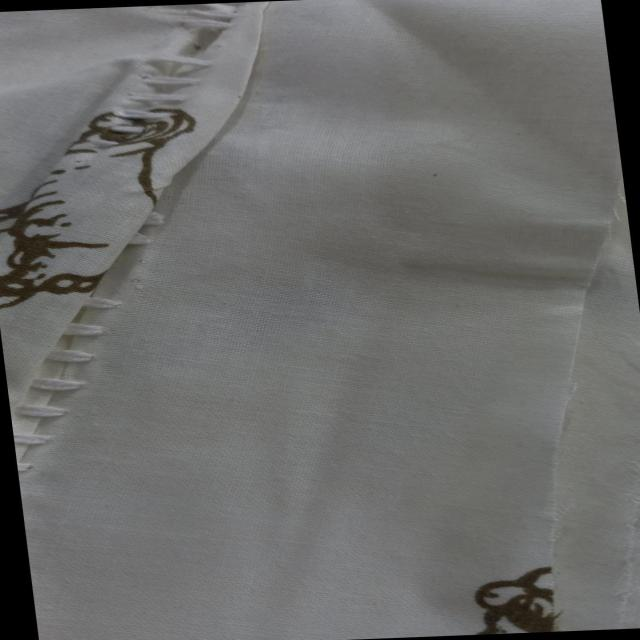gray stitch: (0, 2, 317, 484)
